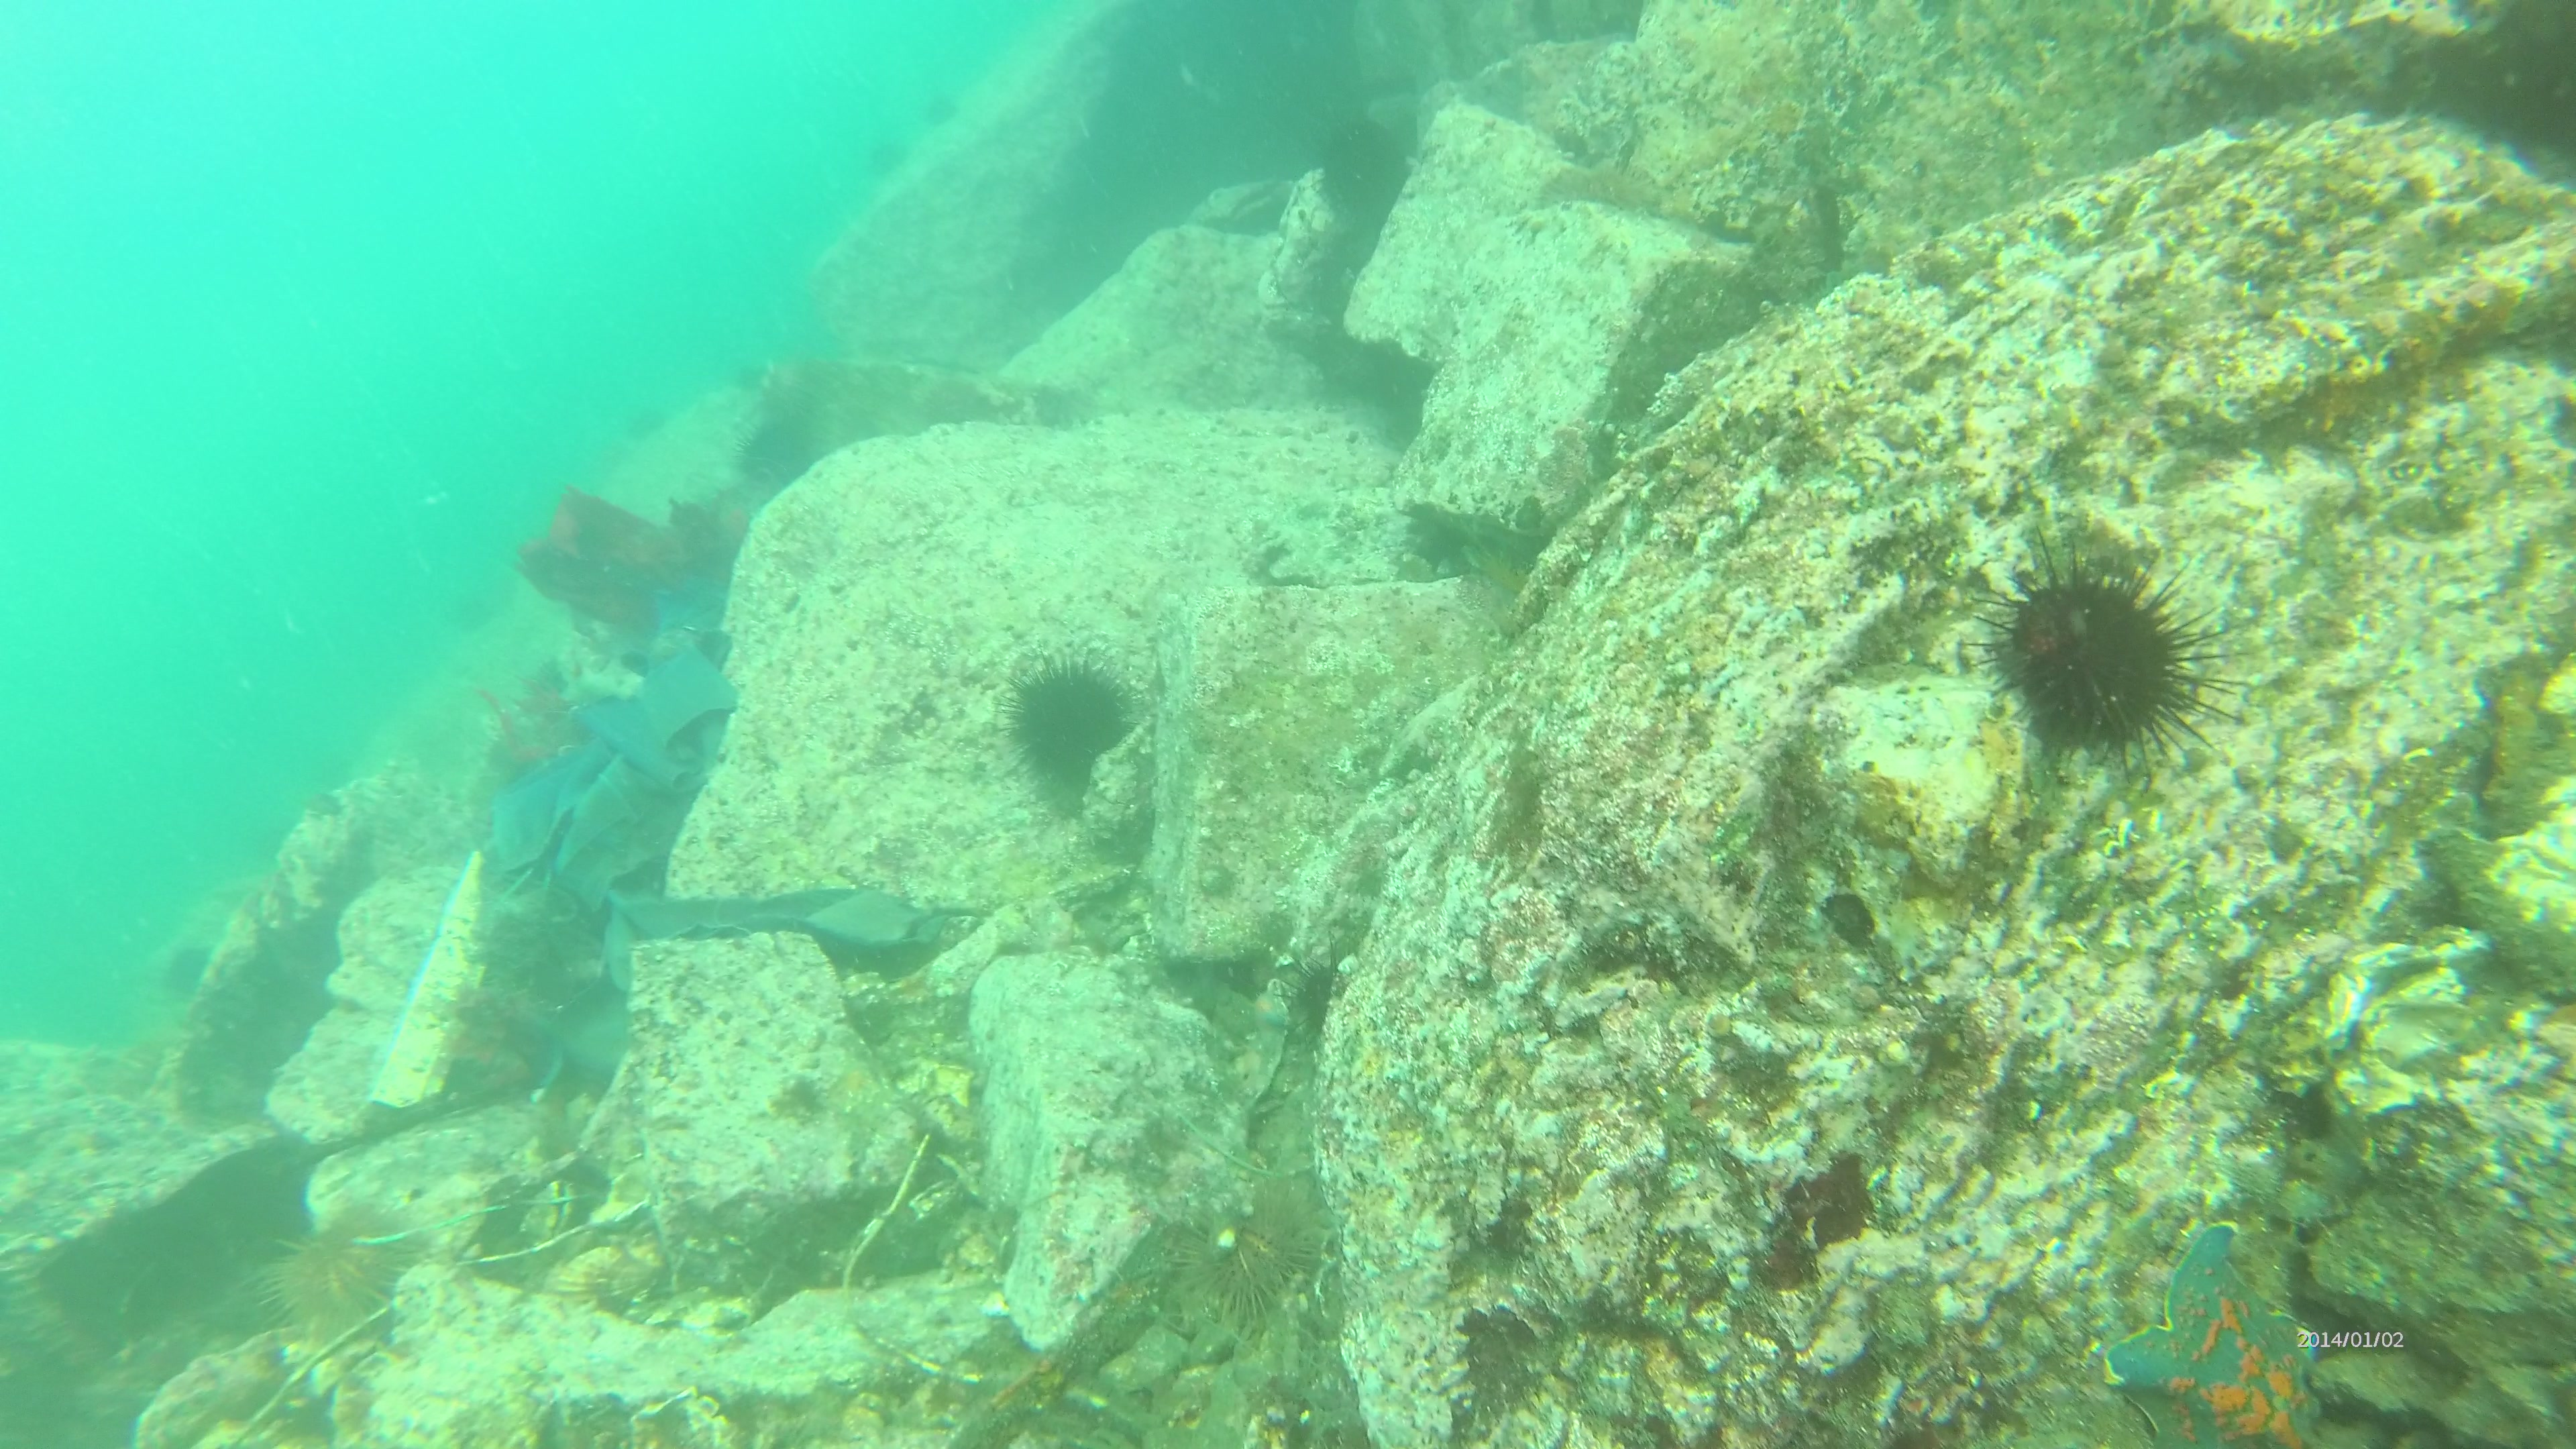echinus: (1978, 525, 2212, 770), (1184, 1185, 1316, 1332), (993, 655, 1136, 782), (264, 1212, 396, 1341), (727, 419, 819, 490)
scallop: (557, 1240, 667, 1320)
starfish: (2084, 1212, 2335, 1449)
